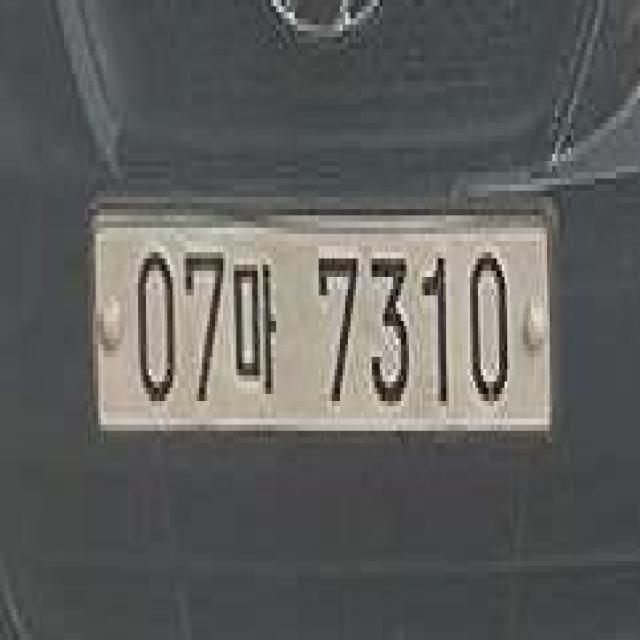illegal_plate: (93, 192, 554, 450)
